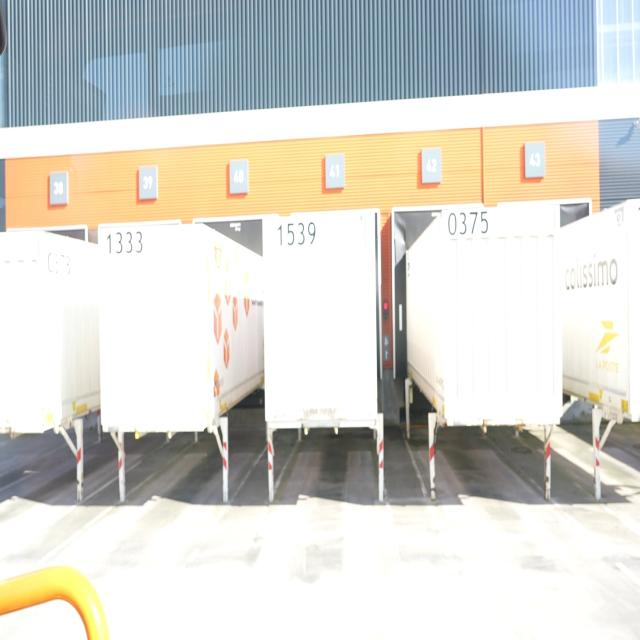Code: (446, 207, 494, 243), (103, 224, 145, 261), (274, 216, 318, 251)
